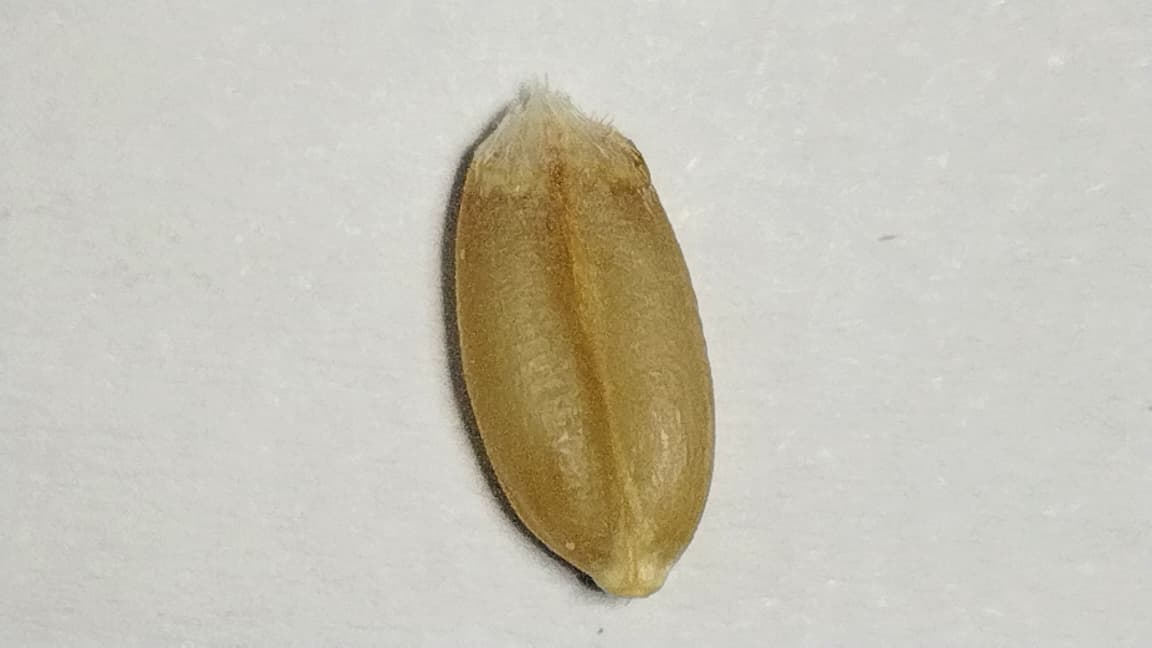healthy: (455, 92, 713, 595)
